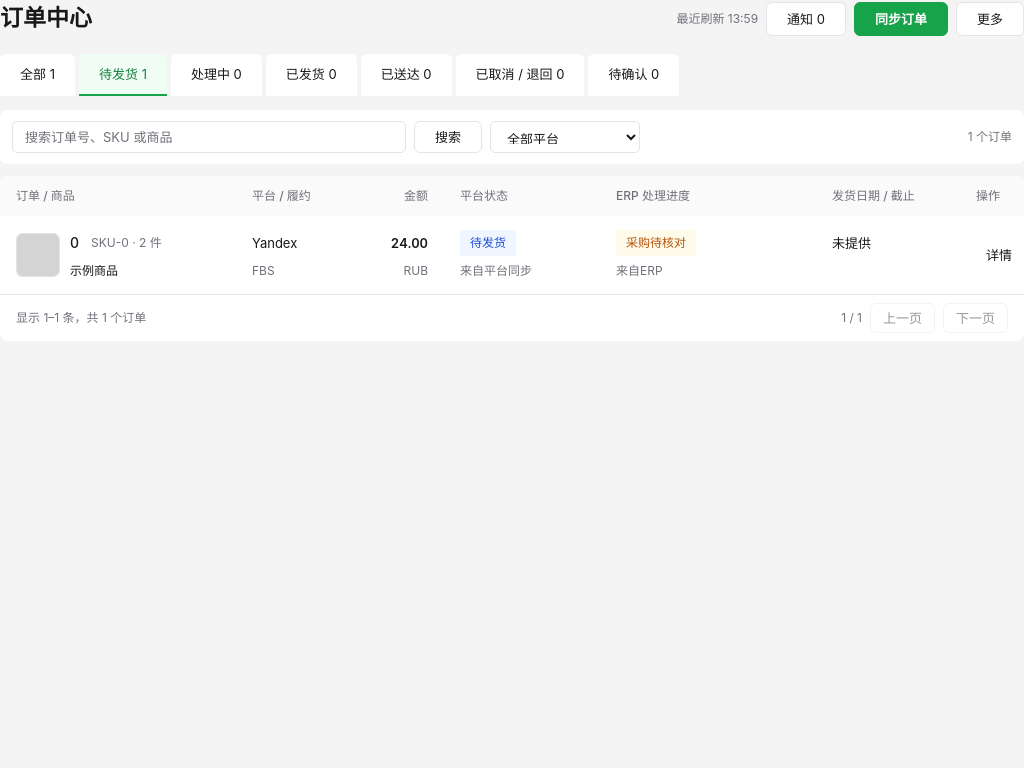
Test: 紧凑订单列表 › Yandex PROCESSING / READY_TO_SHIP 在列表与详情区分平台主状态和附注
Check: the text with class "order-badge" reads "待发货", box [470,235,506,250]
Click the link with aria-label "查看订单 0".
click(999, 255)  # box [986,247,1012,263]
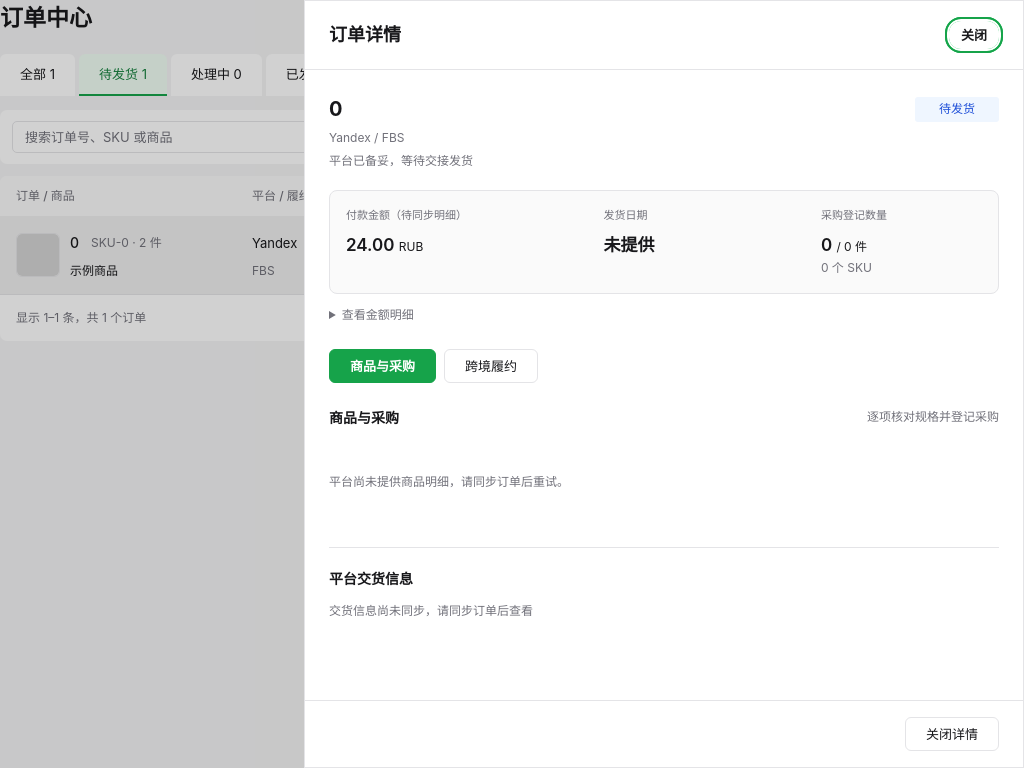
Check: the text "平台已备妥，等待交接发货" is not shown
Check: the text with class "order-badge" reads "待发货", box [939,101,975,116]
Check: the dialog shows "平台已备妥，等待交接发货", box [329,153,473,168]
